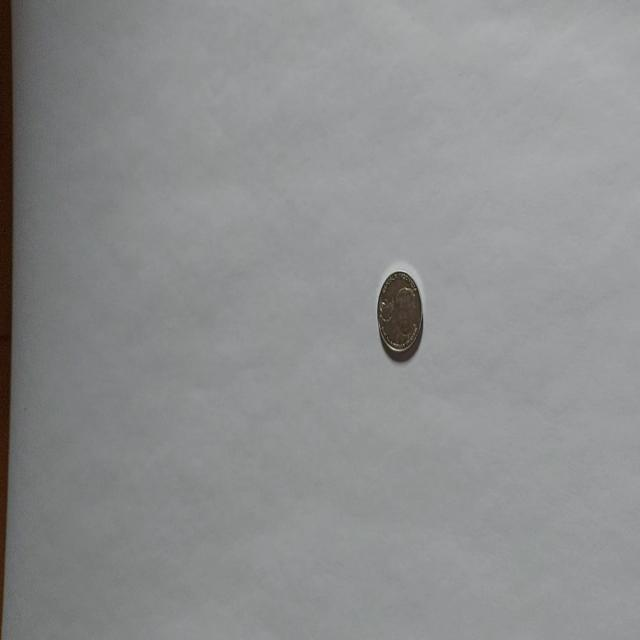seratus rupiah: (376, 268, 424, 359)
